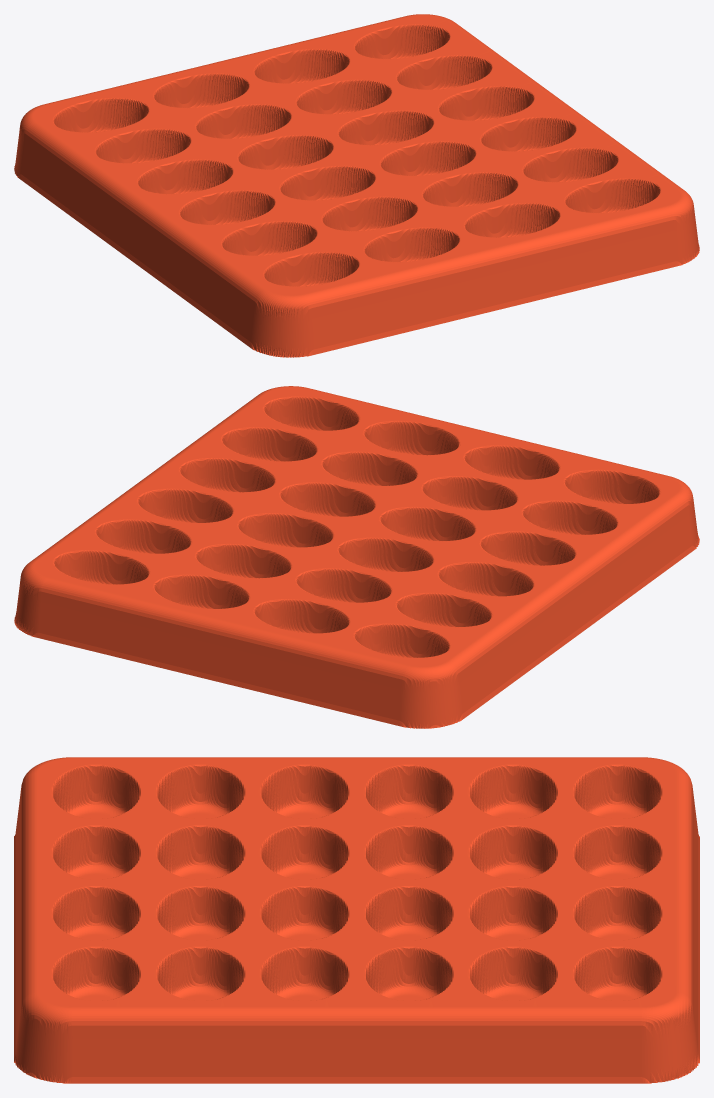
Rendered from mold.glb.
3 renders of one model, top to bottom at view 1: azimuth 30°, elevation 25°; view 2: azimuth 150°, elevation 25°; view 3: azimuth 270°, elevation 25°, orthographic. The views are drawn at different scales.
Visible parts, largest first — view 1: geometry_0; view 2: geometry_0; view 3: geometry_0.
Part boxes in pixels (x1,y1,x2,y2): geometry_0: [14, 14, 699, 357]; geometry_0: [14, 386, 699, 728]; geometry_0: [14, 757, 699, 1083].
Bounding box in the file's own units: 0.098 × 0.0114 × 0.1059.
